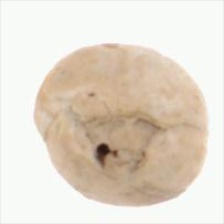L3: (67, 103, 156, 175)
L4: (34, 42, 210, 208)
